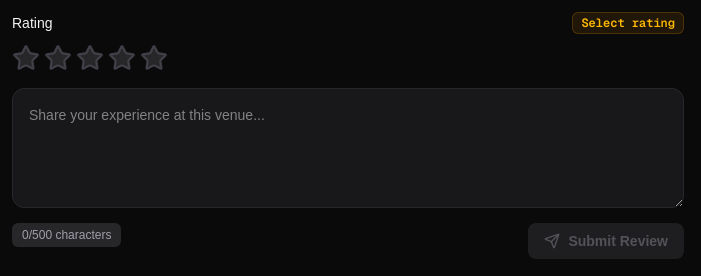
Test: VenueReviewForm Star Rating › Hover Preview State with Gold Star Styling › previews hovered score in gold styling when hovering left or right half of stars
This screenshot has width=701, height=276.
Hover over the button with test id "star-4-left" at (115, 58), box [108,44,122,72]
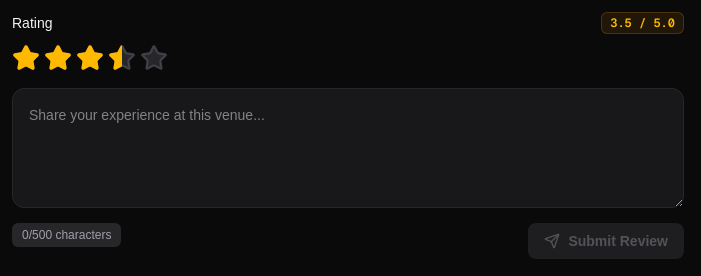
Now the text with test id "rating-preview-text" reads "3.5 / 5.0", box [610,15,675,31]
Now the icon with test id "star-2-full" is shown, box [44,44,72,72]
Now the icon with test id "star-3-full" is shown, box [76,44,104,72]
